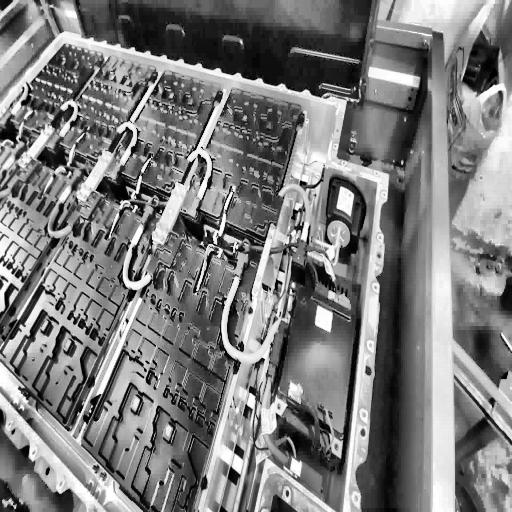high_volt_cable: (0, 75, 322, 478)
